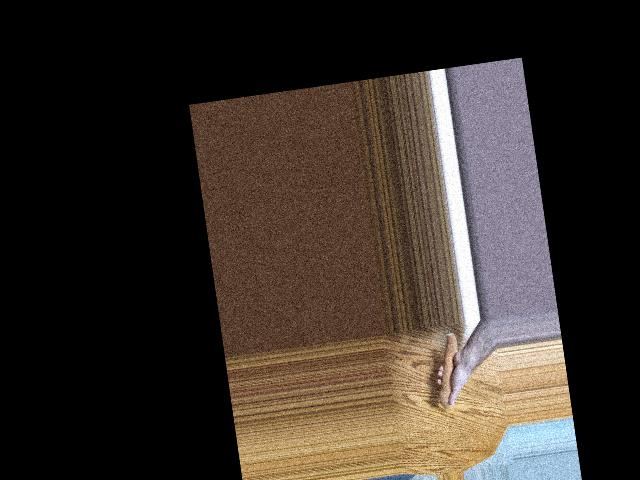sweet_potato: (430, 331, 467, 409)
